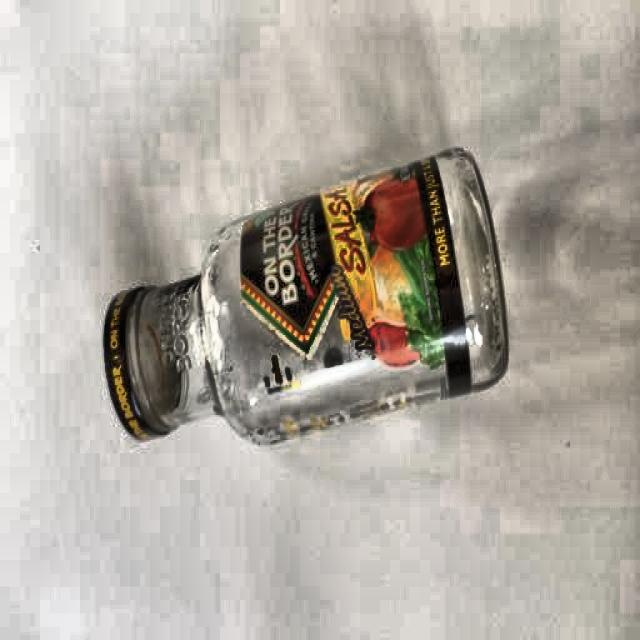glass: (101, 145, 514, 445)
